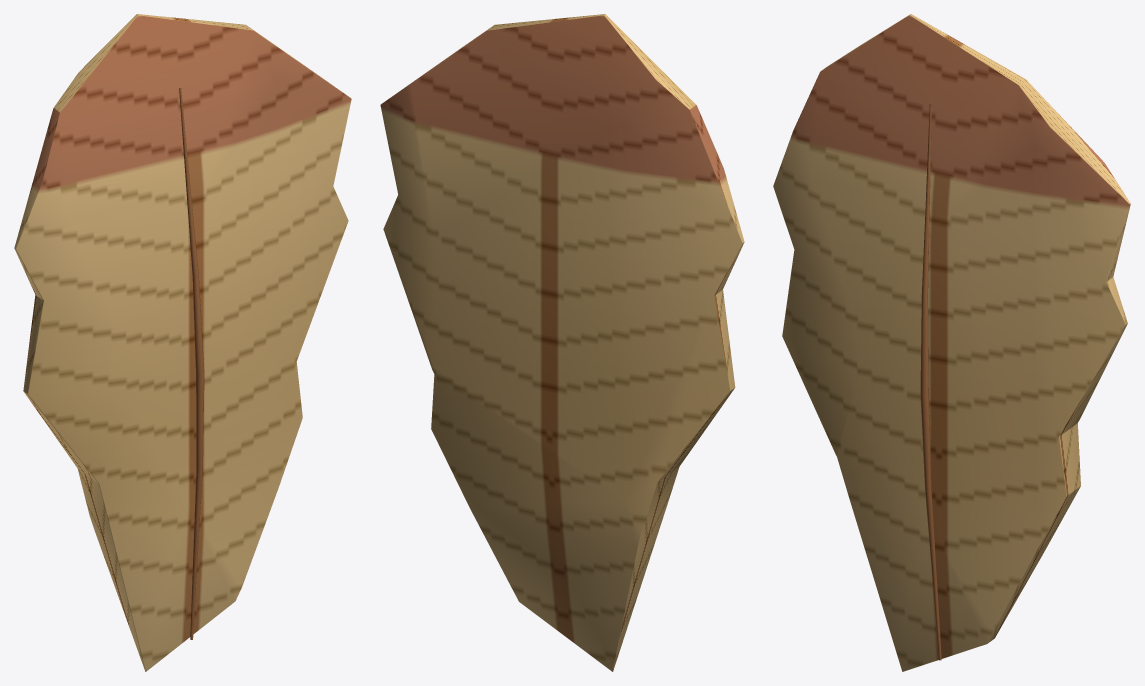
Rendered from moth_scale.obj.
The picture shows the model from 3 angles, left to right: view 1: azimuth 30°, elevation 25°; view 2: azimuth 150°, elevation 25°; view 3: azimuth 330°, elevation 25°; orthographic projection.
Parts seen in each view (by area): view 1: A_ShadowHull.001_moth_scale_scale, B_Quill.001_moth_scale_quill; view 2: A_ShadowHull.001_moth_scale_scale; view 3: A_ShadowHull.001_moth_scale_scale, B_Quill.001_moth_scale_quill.
Boxes of the visible parts, x1,y1,x2,y2 form: A_ShadowHull.001_moth_scale_scale: (14,14,351,671); B_Quill.001_moth_scale_quill: (179,87,204,639); A_ShadowHull.001_moth_scale_scale: (380,14,744,671); A_ShadowHull.001_moth_scale_scale: (773,14,1130,671); B_Quill.001_moth_scale_quill: (920,103,941,660).
Bounding box in the file's own units: 0.9893 × 1.78 × 0.2003.
Materials: 2 (1 with a texture image).
